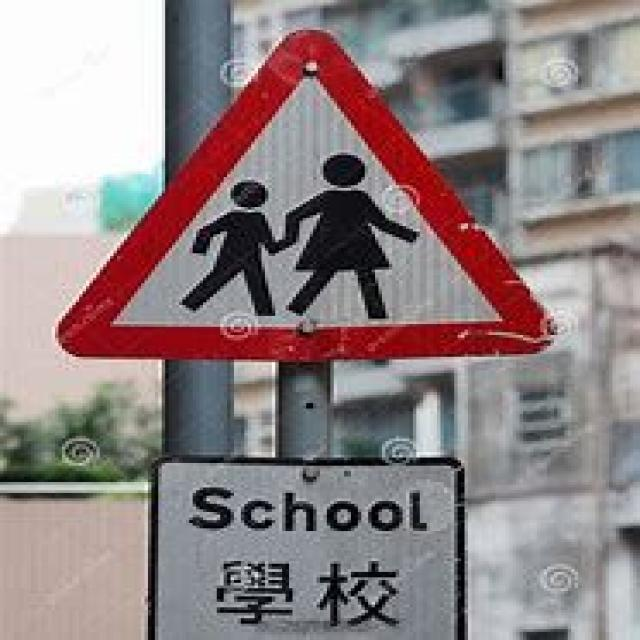SCHOOL_AHEAD: (52, 25, 554, 354)
